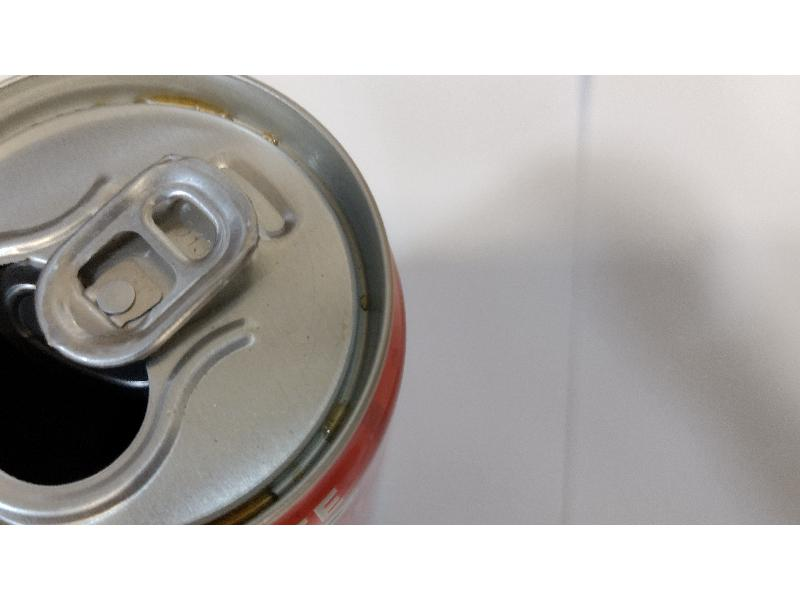can: (1, 73, 414, 521)
